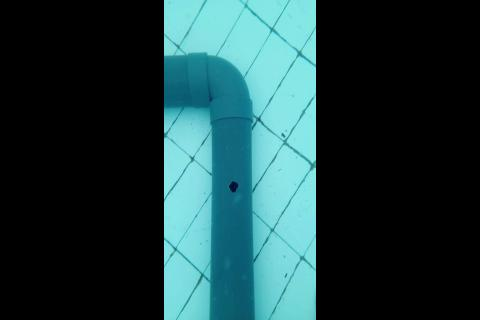kebocoran: (227, 179, 239, 194)
